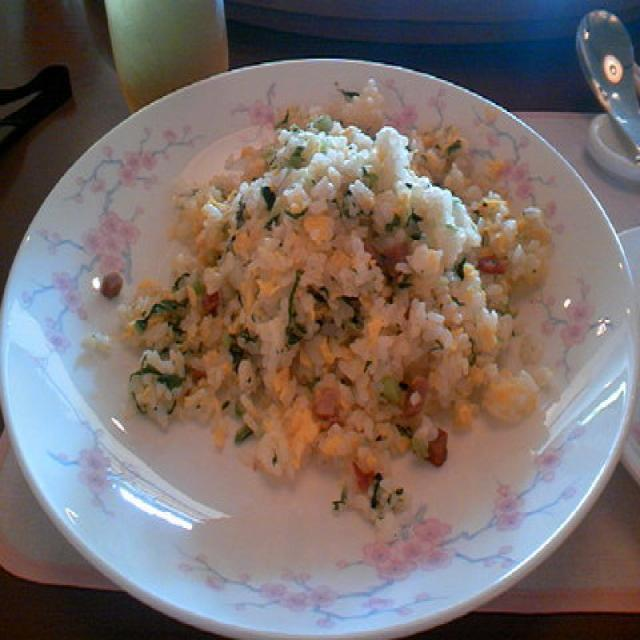米饭主食: (0, 53, 640, 640)
